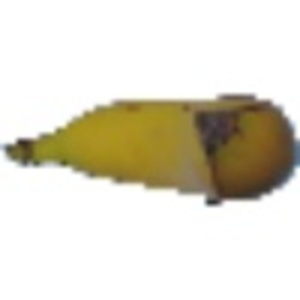banana: (5, 93, 297, 203)
